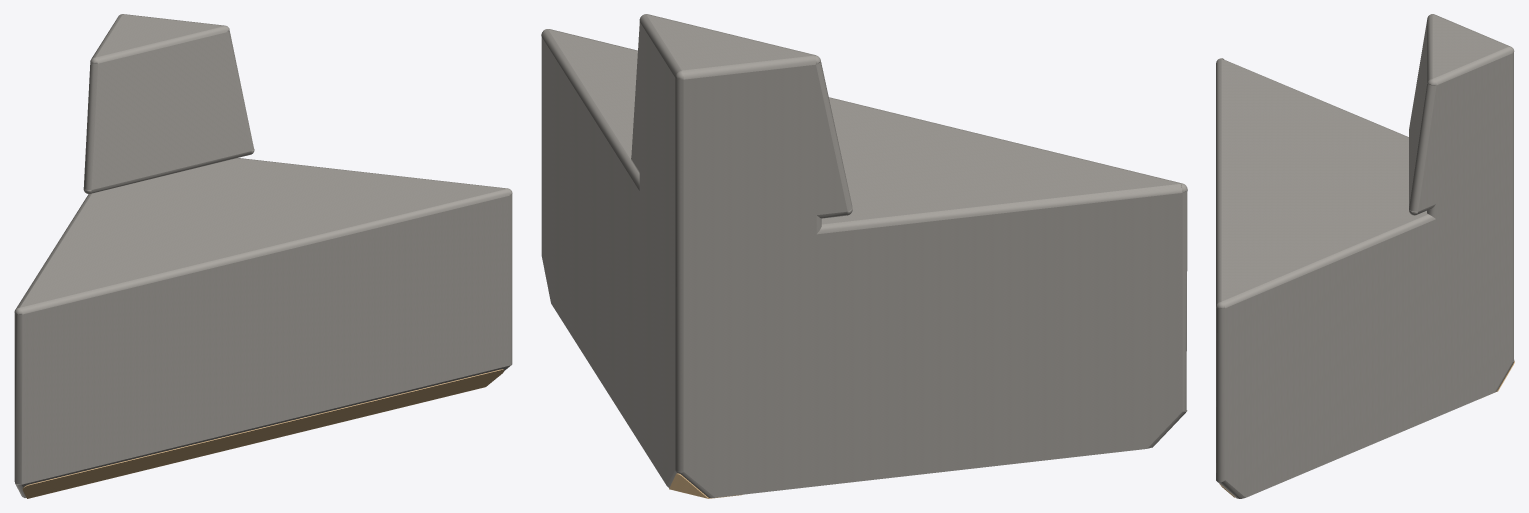
The picture shows the model from 3 angles, left to right: view 1: azimuth 30°, elevation 25°; view 2: azimuth 150°, elevation 25°; view 3: azimuth 270°, elevation 25°; orthographic projection. The views are drawn at different scales.
Visible parts, largest first — view 1: 2, 4; view 2: 2; view 3: 2.
Boxes of the visible parts, left/top/right/bottom form: 2: left=14, top=14, right=512, bottom=497; 4: left=22, top=369, right=504, bottom=498; 2: left=541, top=14, right=1187, bottom=497; 2: left=1216, top=14, right=1514, bottom=498.
Bounding box in the file's own units: 1.07 × 0.6937 × 0.5485.
3 materials, 2 textured.
